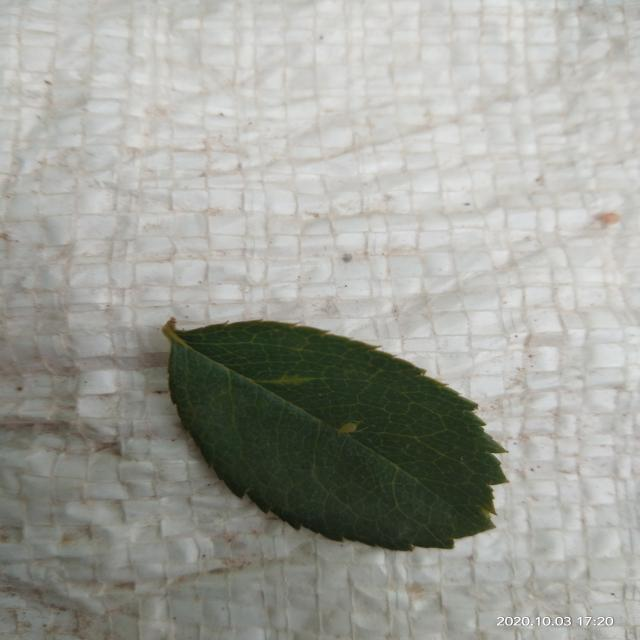rose: (162, 318, 505, 550)
